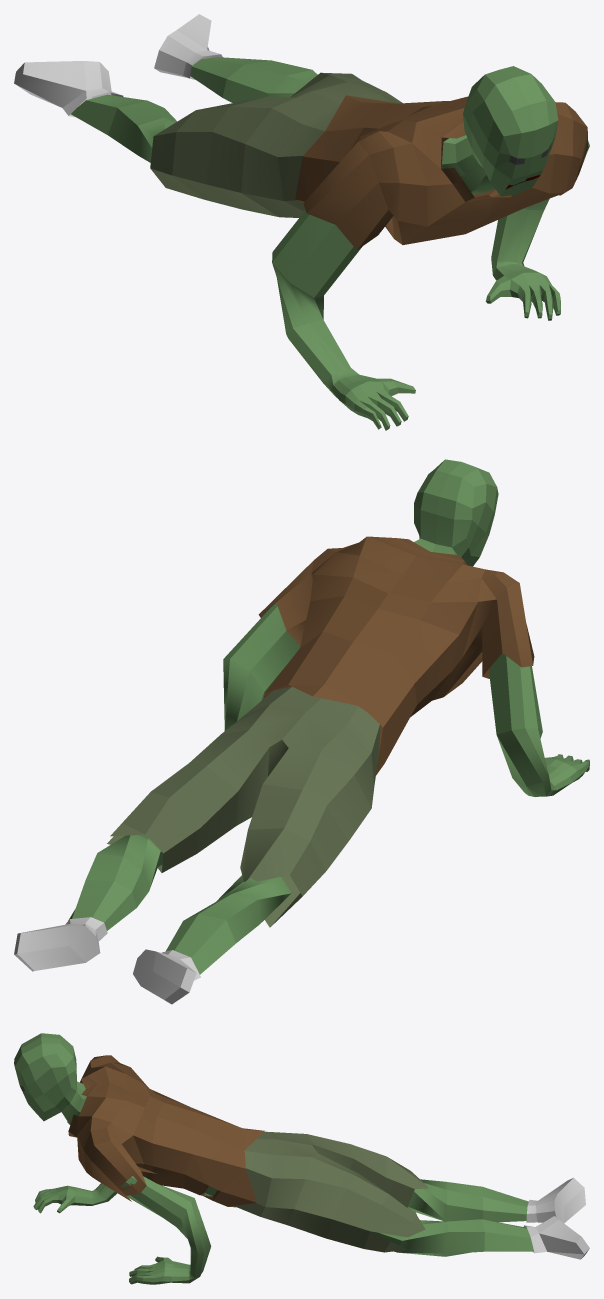
Rendered from ZombieCrawl(36).obj.
3 renders of one model, top to bottom at view 1: azimuth 30°, elevation 25°; view 2: azimuth 150°, elevation 25°; view 3: azimuth 270°, elevation 25°, orthographic. The views are drawn at different scales.
Visible parts, largest first — view 1: Object001; view 2: Object001; view 3: Object001.
Part boxes in pixels (x1,y1,x2,y2): Object001: (14, 14, 589, 430); Object001: (14, 459, 589, 1004); Object001: (14, 1033, 589, 1284).
Size of the model in its own units: 25.53 by 23.99 by 58.69.
